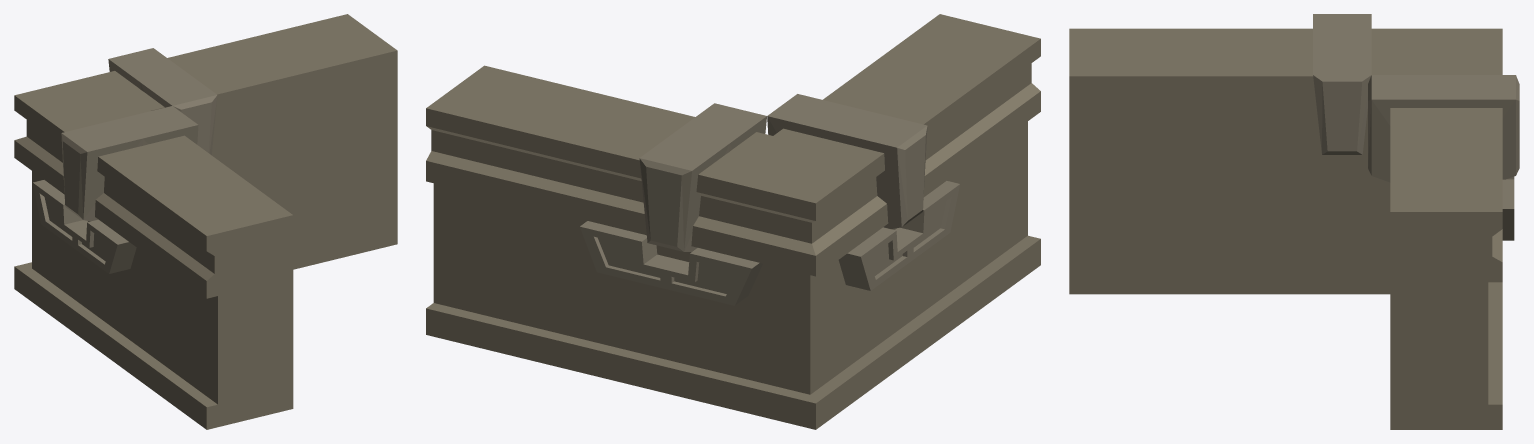
File: TempleFrameB_B.fbx
3 renders of one model, left to right at view 1: azimuth 30°, elevation 25°; view 2: azimuth 150°, elevation 25°; view 3: azimuth 270°, elevation 25°, orthographic. The views are drawn at different scales.
Visible parts, largest first — view 1: TempleFrameB_B; view 2: TempleFrameB_B; view 3: TempleFrameB_B.
Part boxes in pixels (x1,y1,x2,y2): TempleFrameB_B: (14,14,397,429); TempleFrameB_B: (426,14,1040,429); TempleFrameB_B: (1069,14,1519,429).
Size of the model in its own units: 563 by 312 by 561.
